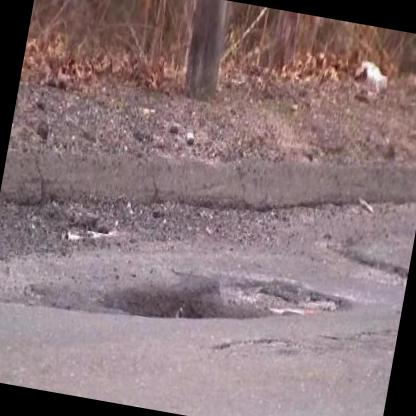pothole: (100, 244, 351, 356)
